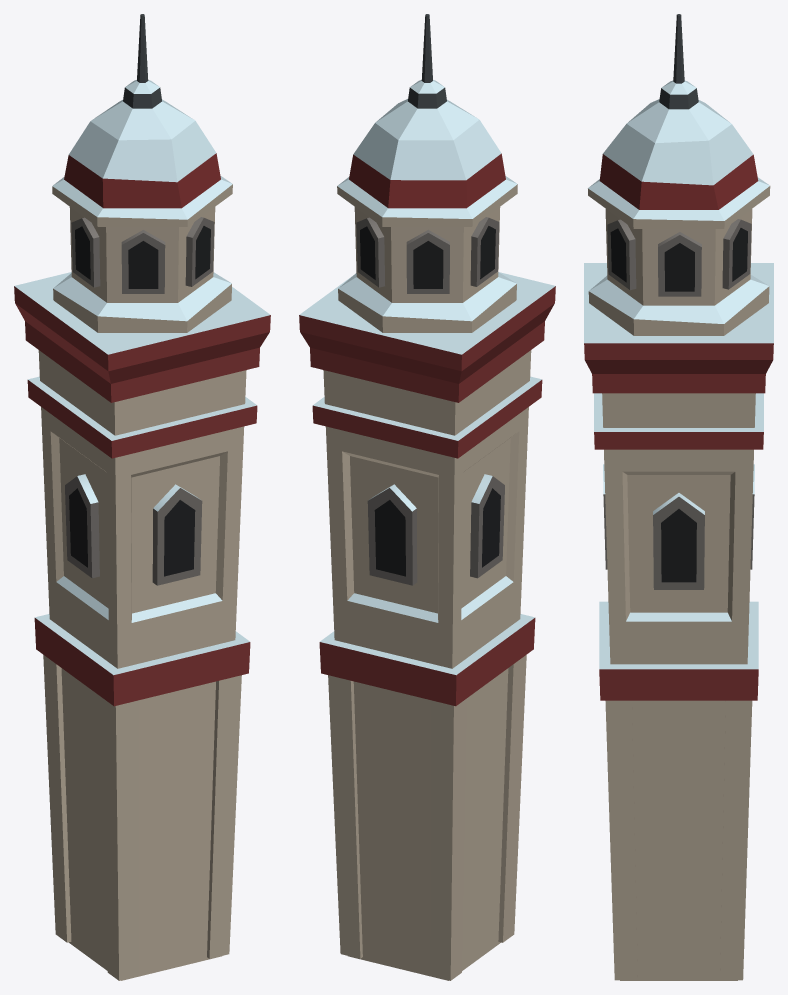
Rendered from SM_Bld_Pirate_Tower_01_Snow.fbx.
3 renders of one model, left to right at view 1: azimuth 30°, elevation 25°; view 2: azimuth 150°, elevation 25°; view 3: azimuth 270°, elevation 25°, orthographic.
Visible parts, largest first — view 1: SM_Bld_Pirate_Tower_01_Snow; view 2: SM_Bld_Pirate_Tower_01_Snow; view 3: SM_Bld_Pirate_Tower_01_Snow.
Boxes of the visible parts, bbox=[...] form: SM_Bld_Pirate_Tower_01_Snow: bbox=[14, 14, 270, 980]; SM_Bld_Pirate_Tower_01_Snow: bbox=[299, 14, 555, 980]; SM_Bld_Pirate_Tower_01_Snow: bbox=[584, 14, 773, 980].
Size of the model in its own units: 51.92 by 284 by 51.92.
Materials: 1 (1 with a texture image).
